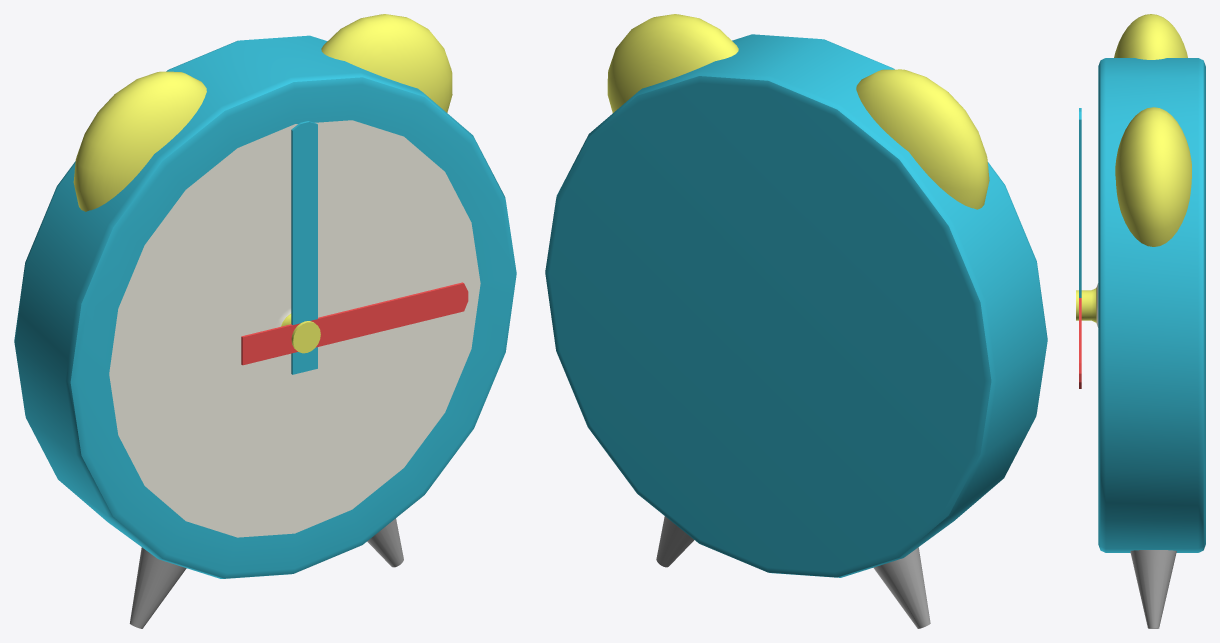
The model's file is naozhong.fbx.
The picture shows the model from 3 angles, left to right: view 1: azimuth 30°, elevation 25°; view 2: azimuth 150°, elevation 25°; view 3: azimuth 270°, elevation 25°; orthographic projection. The views are drawn at different scales.
Parts seen in each view (by area): view 1: polySurface81, polySurface84, pSphere58, pCube12, polySurface83; view 2: polySurface84, pSphere58, polySurface81; view 3: polySurface84, pSphere58, polySurface81, polySurface83, pCube12.
Boxes of the visible parts, left/top/right/bottom form: polySurface81: left=109, top=120, right=480, bottom=628; polySurface84: left=14, top=35, right=516, bottom=578; pSphere58: left=73, top=14, right=452, bottom=211; pCube12: left=241, top=282, right=468, bottom=365; polySurface83: left=281, top=313, right=320, bottom=353; polySurface84: left=545, top=34, right=1047, bottom=577; pSphere58: left=607, top=14, right=989, bottom=209; polySurface81: left=656, top=516, right=930, bottom=628; polySurface84: left=1079, top=58, right=1205, bottom=552; pSphere58: left=1114, top=14, right=1191, bottom=246; polySurface81: left=1096, top=283, right=1176, bottom=628; polySurface83: left=1076, top=287, right=1096, bottom=322; pCube12: left=1079, top=298, right=1081, bottom=388.
Size of the model in its own units: 1.6 by 0.4358 by 1.88.
